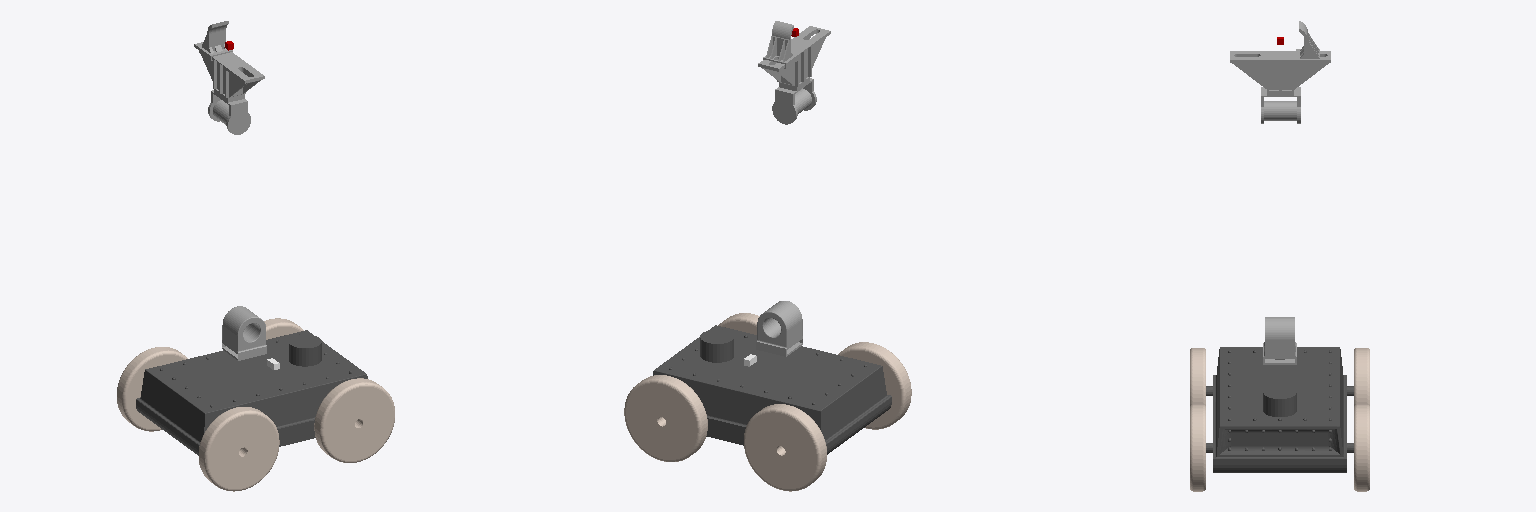
--- Facts derived from the render (not from the file) ---
3 views of the same robot in one strip: view 1: azimuth 30°, elevation 25°; view 2: azimuth 150°, elevation 25°; view 3: azimuth 270°, elevation 25° (orthographic).
Robot: vuasrl_manipulation — 22 links, 21 joints (4 revolute, 4 continuous, 2 prismatic, 11 fixed); root link base_footprint; default pose: all joints at 0.
Links seen in each view (by area): view 1: base_link, rf_wheel, rb_wheel, link5, lb_wheel, link2, gripper, lf_wheel; view 2: base_link, lf_wheel, lb_wheel, link5, rb_wheel, link2, gripper, rf_wheel; view 3: base_link, link5, link2, rf_wheel, lf_wheel, rb_wheel, lb_wheel, gripper.
Boxes of the visible links, x1,y1,x2,y2 form: base_link: [136, 330, 367, 455]; rf_wheel: [314, 378, 394, 462]; rb_wheel: [199, 407, 279, 491]; link5: [194, 42, 264, 134]; lb_wheel: [117, 347, 187, 431]; link2: [222, 306, 266, 360]; gripper: [199, 21, 232, 60]; lf_wheel: [264, 318, 303, 339]; base_link: [653, 325, 891, 454]; lf_wheel: [624, 375, 707, 461]; lb_wheel: [744, 404, 826, 491]; link5: [758, 26, 830, 124]; rb_wheel: [838, 342, 911, 429]; link2: [756, 301, 802, 356]; gripper: [763, 21, 797, 68]; rf_wheel: [718, 313, 759, 334]; base_link: [1206, 347, 1353, 472]; link5: [1230, 51, 1330, 123]; link2: [1263, 317, 1296, 364]; rf_wheel: [1190, 404, 1205, 491]; lf_wheel: [1354, 404, 1369, 491]; rb_wheel: [1190, 348, 1205, 405]; lb_wheel: [1354, 348, 1369, 405]; gripper: [1296, 21, 1319, 64].
Bounding box of the posed robot: 0.33 × 0.27 × 0.6947 m (x, y, z).
8 mesh visuals loaded from 14 distinct referenced files (8 binary STL); not drawn: 6 (reference not matched to a file when rendering).

URDF robot description (vuasrl_manipulation):
<?xml version="1.0" ?>
<!-- =================================================================================== -->
<!-- |    This document was autogenerated by xacro from [local-path]/vuasrl_ws/src/vuasrl_manipulation/urdf/vuasrl_manipulation.urdf.xacro | -->
<!-- |    EDITING THIS FILE BY HAND IS NOT RECOMMENDED                                 | -->
<!-- =================================================================================== -->
<robot name="vuasrl_manipulation">
    <!-- Link1 -->
    <RefLink ref="link1" />
    <!-- Link2 -->
    <RefLink ref="link2" />
    <!-- Link3 -->
    <RefLink ref="link3" />
    <!-- Link4 -->
    <RefLink ref="link4" />
    <!-- Link5 -->
    <RefLink ref="link5" />
    <!-- gripper_link -->
    <RefLink ref="gripper" />
    <!-- gripper_link_sub -->
    <RefLink ref="gripper_sub" />
    <!-- end effector link -->
    <gazebo reference="end_effector_link">
        <material>Gazebo/Red</material>
        <plugin name="gazebo_ros_control">
            <robotNamespace>/</robotNamespace>
        </plugin>
    </gazebo>
    <!-- ros_control plugin -->
    <gazebo>
        <plugin filename="libgazebo_ros_control.so" name="gazebo_ros_control">
            <controlPeriod>0.001</controlPeriod>
            <robotNamespace>/vuasrl_manipulation</robotNamespace>
            <robotSimType>gazebo_ros_control/DefaultRobotHWSim</robotSimType>
            <legacyModeNS>true</legacyModeNS>
        </plugin>
    </gazebo>
    <!-- <gazebo> -->
    <!-- loading plugin: mimic joints works in gazebo now -->
    <!--  <plugin name="gazebo_gripper_ros_control" filename="libroboticsgroup_gazebo_mimic_joint_plugin.so">
      <joint>grip_joint</joint>
      <mimicJoint>grip_joint_sub</mimicJoint>
      <multiplier>1.0</multiplier>
      <offset>0.0</offset>
      <hasPID>/gazebo_ros_control/pid_gains/gripper_joint_sub</hasPID>
    </plugin>
  </gazebo> -->
    <transmission name="tran1">
        <type>transmission_interface/SimpleTransmission</type>
        <joint name="joint1">
            <hardwareInterface>hardware_interface/PositionJointInterface</hardwareInterface>
        </joint>
        <actuator name="motor1">
            <hardwareInterface>hardware_interface/PositionJointInterface</hardwareInterface>
            <mechanicalReduction>1</mechanicalReduction>
        </actuator>
    </transmission>
    <transmission name="tran2">
        <type>transmission_interface/SimpleTransmission</type>
        <joint name="joint2">
            <hardwareInterface>hardware_interface/PositionJointInterface</hardwareInterface>
        </joint>
        <actuator name="motor2">
            <hardwareInterface>hardware_interface/PositionJointInterface</hardwareInterface>
            <mechanicalReduction>1</mechanicalReduction>
        </actuator>
    </transmission>
    <transmission name="tran3">
        <type>transmission_interface/SimpleTransmission</type>
        <joint name="joint3">
            <hardwareInterface>hardware_interface/PositionJointInterface</hardwareInterface>
        </joint>
        <actuator name="motor3">
            <hardwareInterface>hardware_interface/PositionJointInterface</hardwareInterface>
            <mechanicalReduction>1</mechanicalReduction>
        </actuator>
    </transmission>
    <transmission name="tran4">
        <type>transmission_interface/SimpleTransmission</type>
        <joint name="joint4">
            <hardwareInterface>hardware_interface/PositionJointInterface</hardwareInterface>
        </joint>
        <actuator name="motor4">
            <hardwareInterface>hardware_interface/PositionJointInterface</hardwareInterface>
            <mechanicalReduction>1</mechanicalReduction>
        </actuator>
    </transmission>
    <transmission name="tran5">
        <type>transmission_interface/SimpleTransmission</type>
        <joint name="grip_joint">
            <hardwareInterface>hardware_interface/EffortJointInterface</hardwareInterface>
        </joint>
        <actuator name="motor5">
            <hardwareInterface>hardware_interface/EffortJointInterface</hardwareInterface>
            <mechanicalReduction>1</mechanicalReduction>
        </actuator>
    </transmission>
    <transmission name="tran6">
        <type>transmission_interface/SimpleTransmission</type>
        <joint name="grip_joint_sub">
            <hardwareInterface>hardware_interface/EffortJointInterface</hardwareInterface>
        </joint>
        <actuator name="motor6">
            <hardwareInterface>hardware_interface/EffortJointInterface</hardwareInterface>
            <mechanicalReduction>1</mechanicalReduction>
        </actuator>
    </transmission>
    <link name="link1">
        <inertial>
            <origin rpy="0 0 0" xyz="0.0001816853136070254 -2.1915878376977466e-17 0.020129887613482035" />
            <mass value="7.9119962e-02" />
            <inertia ixx="0.002145" ixy="-0.0" ixz="-1.3e-05" iyy="0.004951" iyz="-0.0" izz="0.006213" />
        </inertial>
        <visual>
            <origin rpy="0 0 0" xyz="0 0 0" />
            <geometry>
                <mesh filename="package://vuasrl_manipulation/meshes/link1.stl" scale="0.001 0.001 0.001" />
            </geometry>
            <material name="silver" />
        </visual>
        <collision>
            <origin rpy="0 0 0" xyz="0 0 0" />
            <geometry>
                <mesh filename="package://vuasrl_manipulation/meshes/link1.stl" scale="0.001 0.001 0.001" />
            </geometry>
        </collision>
    </link>
    <link name="link2">
        <inertial>
            <origin rpy="0 0 0" xyz="-2.328586629074536e-11 -2.8877387782838815e-10 0.020681716416087625" />
            <mass value="9.8406837e-02" />
            <inertia ixx="0.000355" ixy="0.0" ixz="0.0" iyy="0.00039" iyz="-0.0" izz="0.000302" />
        </inertial>
        <visual>
            <origin rpy="0 0 0" xyz="-0.03 -0.0 -0.048" />
            <geometry>
                <mesh filename="package://vuasrl_manipulation/meshes/link2.stl" scale="0.001 0.001 0.001" />
            </geometry>
            <material name="silver" />
        </visual>
        <collision>
            <origin rpy="0 0 0" xyz="-0.03 -0.0 -0.048" />
            <geometry>
                <mesh filename="package://vuasrl_manipulation/meshes/link2.stl" scale="0.001 0.001 0.001" />
            </geometry>
        </collision>
    </link>
    <link name="link3">
        <inertial>
            <origin rpy="0 0 0" xyz="-0.004542317857195898 0.0005782036806908492 0.09874905854464662" />
            <mass value="1.3850917e-01" />
            <inertia ixx="0.009439" ixy="-1e-06" ixz="0.000653" iyy="0.009407" iyz="1.5e-05" izz="0.0009" />
        </inertial>
        <visual>
            <origin rpy="0 0 0" xyz="-0.03 -0.0 -0.078" />
            <geometry>
                <mesh filename="package://vuasrl_manipulation/meshes/link3.stl" scale="0.001 0.001 0.001" />
            </geometry>
            <material name="silver" />
        </visual>
        <collision>
            <origin rpy="0 0 0" xyz="-0.03 -0.0 -0.078" />
            <geometry>
                <mesh filename="package://vuasrl_manipulation/meshes/link3.stl" scale="0.001 0.001 0.001" />
            </geometry>
        </collision>
    </link>
    <link name="link4">
        <inertial>
            <origin rpy="0 0 0" xyz="4.336808689942018e-18 0.0005787515631340847 0.10231346303330496" />
            <mass value="1.3274562e-01" />
            <inertia ixx="0.010801" ixy="0.0" ixz="0.0" iyy="0.010515" iyz="1.6e-05" izz="0.000691" />
        </inertial>
        <visual>
            <origin rpy="0 0 0" xyz="-0.005 -0.0005 -0.243" />
            <geometry>
                <mesh filename="package://vuasrl_manipulation/meshes/link4.stl" scale="0.001 0.001 0.001" />
            </geometry>
            <material name="silver" />
        </visual>
        <collision>
            <origin rpy="0 0 0" xyz="-0.005 -0.0005 -0.243" />
            <geometry>
                <mesh filename="package://vuasrl_manipulation/meshes/link4.stl" scale="0.001 0.001 0.001" />
            </geometry>
        </collision>
    </link>
    <link name="link5">
        <inertial>
            <origin rpy="0 0 0" xyz="2.8536201179818477e-16 -5.72784007724092e-15 0.04451102048440414" />
            <mass value="1.4327573e-01" />
            <inertia ixx="0.00218" ixy="-0.0" ixz="-0.0" iyy="0.00154" iyz="0.0" izz="0.000828" />
        </inertial>
        <visual>
            <origin rpy="0 0 0" xyz="-0.005 -0.001 -0.433" />
            <geometry>
                <mesh filename="package://vuasrl_manipulation/meshes/link5.stl" scale="0.001 0.001 0.001" />
            </geometry>
            <material name="silver" />
        </visual>
        <collision>
            <origin rpy="0 0 0" xyz="-0.005 -0.001 -0.433" />
            <geometry>
                <mesh filename="package://vuasrl_manipulation/meshes/link5.stl" scale="0.001 0.001 0.001" />
            </geometry>
        </collision>
    </link>
    <link name="gripper">
        <inertial>
            <origin rpy="0 0 0" xyz="0 0 0" />
            <mass value="1.0e-03" />
            <inertia ixx="1.0e-03" ixy="0.0" ixz="0.0" iyy="1.0e-03" iyz="0.0" izz="1.0e-03" />
        </inertial>
        <visual>
            <origin rpy="0 0 0" xyz="-0.01 0.033 -0.95715" />
            <geometry>
                <mesh filename="package://vuasrl_manipulation/meshes/grip.stl" scale="0.001 0.001 0.001" />
            </geometry>
            <material name="silver" />
        </visual>
        <collision>
            <origin rpy="0 0 0" xyz="-0.01 0.033 -0.95715" />
            <geometry>
                <mesh filename="package://vuasrl_manipulation/meshes/grip.stl" scale="0.001 0.001 0.001" />
            </geometry>
        </collision>
    </link>
    <link name="gripper_sub">
        <inertial>
            <origin rpy="0 0 0" xyz="0 0 0" />
            <mass value="1.0e-03" />
            <inertia ixx="1.0e-03" ixy="0.0" ixz="0.0" iyy="1.0e-03" iyz="0.0" izz="1.0e-03" />
        </inertial>
        <visual>
            <origin rpy="0 0 0" xyz="-0.01 -0.037 -0.95715" />
            <geometry>
                <mesh filename="package://vuasrl_manipulation/meshes/grip_sub.stl" scale="0.001 0.001 0.001" />
            </geometry>
            <material name="silver" />
        </visual>
        <collision>
            <origin rpy="0 0 0" xyz="-0.01 -0.037 -0.95715" />
            <geometry>
                <mesh filename="package://vuasrl_manipulation/meshes/grip_sub.stl" scale="0.001 0.001 0.001" />
            </geometry>
        </collision>
    </link>
    <joint name="joint1" type="revolute">
        <origin rpy="0 0 0" xyz="0.03 0.0 0.048" />
        <parent link="link1" />
        <child link="link2" />
        <axis xyz="0.0 0.0 1.0" />
        <limit effort="1" lower="-2.827433388230814" upper="2.827433388230814" velocity="4.8" />
    </joint>
    <joint name="joint2" type="revolute">
        <origin rpy="0 0 0" xyz="0.0 0.0 0.03" />
        <parent link="link2" />
        <child link="link3" />
        <axis xyz="0.0 1.0 0.0" />
        <limit effort="1" lower="-1.790707812546182" upper="1.5707963267948966" velocity="4.8" />
    </joint>
    <joint name="joint3" type="revolute">
        <origin rpy="0 0 0" xyz="-0.025 0.0005 0.165" />
        <parent link="link3" />
        <child link="link4" />
        <axis xyz="0.0 1.0 0.0" />
        <limit effort="1" lower="-0.9424777960769379" upper="1.382300767579509" velocity="4.8" />
    </joint>
    <joint name="joint4" type="revolute">
        <origin rpy="0 0 0" xyz="0.0 0.0005 0.19" />
        <parent link="link4" />
        <child link="link5" />
        <axis xyz="0.0 1.0 0.0" />
        <limit effort="1" lower="-1.790707812546182" upper="2.0420352248333655" velocity="4.8" />
    </joint>
    <joint name="grip_joint" type="prismatic">
        <origin rpy="0 0 0" xyz="0.005 -0.034 0.52415" />
        <parent link="link5" />
        <child link="gripper" />
        <axis xyz="0.0 1.0 0.0" />
        <limit effort="1" lower="-0.010" upper="0.019" velocity="4.8" />
    </joint>
    <joint name="grip_joint_sub" type="prismatic">
        <origin rpy="0 0 0" xyz="0.005 0.036 0.52415" />
        <parent link="link5" />
        <child link="gripper_sub" />
        <axis xyz="0.0 -1.0 0.0" />
        <limit effort="1" lower="-0.010" upper="0.019" velocity="4.8" />
        <!--  <mimic joint="grip_joint" multiplier="1"/> -->
    </joint>
    <!-- end effector joint -->
    <joint name="end_effector_joint" type="fixed">
        <origin rpy="0 0 0" xyz="0.0 0.0 0.115" />
        <parent link="link5" />
        <child link="end_effector_link" />
    </joint>
    <!-- end effector link -->
    <link name="end_effector_link">
        <visual>
            <origin rpy="0 0 0" xyz="0 0 0" />
            <geometry>
                <box size="0.01 0.01 0.01" />
            </geometry>
            <material name="red" />
        </visual>
        <collision>
            <origin rpy="0 0 0" xyz="0 0 0" />
            <geometry>
                <box size="0.01 0.01 0.01" />
            </geometry>
        </collision>
        <inertial>
            <origin rpy="0 0 0" xyz="0 0 0" />
            <mass value="1.0e-03" />
            <inertia ixx="1.0e-03" ixy="0.0" ixz="0.0" iyy="1.0e-03" iyz="0.0" izz="1.0e-03" />
        </inertial>
    </link>
    <!-- Init colour -->
    <material name="black">
        <color rgba="0.0 0.0 0.0 1.0" />
    </material>
    <material name="dark">
        <color rgba="0.3 0.3 0.3 1.0" />
    </material>
    <material name="light_black">
        <color rgba="0.4 0.4 0.4 1.0" />
    </material>
    <material name="blue">
        <color rgba="0.0 0.0 0.8 1.0" />
    </material>
    <material name="green">
        <color rgba="0.0 0.8 0.0 1.0" />
    </material>
    <material name="grey">
        <color rgba="0.5 0.5 0.5 1.0" />
    </material>
    <material name="orange">
        <color rgba="1.0 0.4235294117647059 0.0392156862745098 1.0" />
    </material>
    <material name="brown">
        <color rgba="0.8705882352941177 0.8117647058823529 0.7647058823529411 1.0" />
    </material>
    <material name="red">
        <color rgba="0.8 0.0 0.0 1.0" />
    </material>
    <material name="white">
        <color rgba="1.0 1.0 1.0 1.0" />
    </material>
    <material name="silver">
        <color rgba="0.700 0.700 0.700 1.000" />
    </material>
    <transmission name="rb_base_tran">
        <type>transmission_interface/SimpleTransmission</type>
        <joint name="rb_base">
            <hardwareInterface>hardware_interface/EffortJointInterface</hardwareInterface>
        </joint>
        <actuator name="rb_base_actr">
            <hardwareInterface>hardware_interface/EffortJointInterface</hardwareInterface>
            <mechanicalReduction>1</mechanicalReduction>
        </actuator>
    </transmission>
    <transmission name="lb_base_tran">
        <type>transmission_interface/SimpleTransmission</type>
        <joint name="lb_base">
            <hardwareInterface>hardware_interface/EffortJointInterface</hardwareInterface>
        </joint>
        <actuator name="lb_base_actr">
            <hardwareInterface>hardware_interface/EffortJointInterface</hardwareInterface>
            <mechanicalReduction>1</mechanicalReduction>
        </actuator>
    </transmission>
    <transmission name="rf_base_tran">
        <type>transmission_interface/SimpleTransmission</type>
        <joint name="rf_base">
            <hardwareInterface>hardware_interface/EffortJointInterface</hardwareInterface>
        </joint>
        <actuator name="rf_base_actr">
            <hardwareInterface>hardware_interface/EffortJointInterface</hardwareInterface>
            <mechanicalReduction>1</mechanicalReduction>
        </actuator>
    </transmission>
    <transmission name="lf_base_tran">
        <type>transmission_interface/SimpleTransmission</type>
        <joint name="lf_base">
            <hardwareInterface>hardware_interface/EffortJointInterface</hardwareInterface>
        </joint>
        <actuator name="lf_base_actr">
            <hardwareInterface>hardware_interface/EffortJointInterface</hardwareInterface>
            <mechanicalReduction>1</mechanicalReduction>
        </actuator>
    </transmission>
    <material name="Cam_Color">
        <color rgba="0.0 0.0 0.75 1.0" />
    </material>
    <gazebo>
        <plugin filename="libgazebo_ros_control.so" name="control" />
    </gazebo>
    <gazebo reference="base_link">
        <material>Gazebo/Grey</material>
        <mu1>0.2</mu1>
        <mu2>0.2</mu2>
        <selfCollide>true</selfCollide>
        <gravity>true</gravity>
    </gazebo>
    <gazebo reference="rb_wheel">
        <material>Gazebo/DarkGrey</material>
        <mu1>15000</mu1>
        <mu2>15000</mu2>
        <selfCollide>true</selfCollide>
    </gazebo>
    <gazebo reference="lb_wheel">
        <material>Gazebo/DarkGrey</material>
        <mu1>15000</mu1>
        <mu2>15000</mu2>
        <selfCollide>true</selfCollide>
    </gazebo>
    <gazebo reference="rf_wheel">
        <material>Gazebo/DarkGrey</material>
        <mu1>0.2</mu1>
        <mu2>0.2</mu2>
        <selfCollide>true</selfCollide>
    </gazebo>
    <gazebo reference="lf_wheel">
        <material>Gazebo/DarkGrey</material>
        <mu1>0.2</mu1>
        <mu2>0.2</mu2>
        <selfCollide>true</selfCollide>
    </gazebo>
    <gazebo>
        <plugin filename="libgazebo_ros_diff_drive.so" name="differential_drive_controller">
            <alwaysOn>true</alwaysOn>
            <updateRate>10</updateRate>
            <legacyMode>false</legacyMode>
            <leftJoint>lb_base</leftJoint>
            <rightJoint>rb_base</rightJoint>
            <wheelSeparation>0.12</wheelSeparation>
            <wheelDiameter>0.130</wheelDiameter>
            <commandTopic>cmd_vel</commandTopic>
            <odometryTopic>vuasrl/odom</odometryTopic>
            <odometryFrame>vuasrl/odom</odometryFrame>
            <robotBaseFrame>base_link</robotBaseFrame>
            <publishTf>1</publishTf>
            <publishOdom>true</publishOdom>
            <publishWheelTF>false</publishWheelTF>
            <publishWheelJointState>false</publishWheelJointState>
            <rosDebugLevel>na</rosDebugLevel>
            <wheelAcceleration>1.0</wheelAcceleration>
            <wheelTorque>20</wheelTorque>
            <odometrySource>world</odometrySource>
        </plugin>
    </gazebo>
    <!-- imu -->
    <gazebo reference="imu_link">
        <gravity>false</gravity>
        <sensor name="imu_sensor" type="imu">
            <always_on>true</always_on>
            <update_rate>100</update_rate>
            <visualize>true</visualize>
            <topic>__default_topic__</topic>
            <plugin filename="libgazebo_ros_imu_sensor.so" name="imu_plugin">
                <topicName>imu</topicName>
                <bodyName>imu_link</bodyName>
                <updateRateHZ>10.0</updateRateHZ>
                <gaussianNoise>0.0</gaussianNoise>
                <xyzOffset>0 0 0</xyzOffset>
                <rpyOffset>0 0 0</rpyOffset>
                <frameName>imu_link</frameName>
                <initialOrientationAsReference>false</initialOrientationAsReference>
            </plugin>
            <pose>0 0 0 0 0 0</pose>
        </sensor>
    </gazebo>
    <!-- ouster -->
    <gazebo reference="ouster_link">
        <sensor name="ouster_sensor" type="ray">
            <visualize>0</visualize>
            <update_rate>10</update_rate>
            <ray>
                <scan>
                    <horizontal>
                        <samples>512</samples>
                        <resolution>1</resolution>
                        <min_angle>-3.14159</min_angle>
                        <max_angle>3.14159</max_angle>
                    </horizontal>
                    <vertical>
                        <samples>32</samples>
                        <resolution>1</resolution>
                        <min_angle>-0.349</min_angle>
                        <max_angle>0.349</max_angle>
                    </vertical>
                </scan>
                <range>
                    <min>0.05</min>
                    <max>120.0</max>
                    <resolution>0.01</resolution>
                </range>
                <noise>
                    <type>gaussian</type>
                    <mean>0</mean>
                    <stddev>0.01</stddev>
                </noise>
            </ray>
            <plugin filename="libgazebo_ros_ouster_laser.so" name="gazebo_ros_laser_controller">
                <topicName>/os_cloud_node/points</topicName>
                <bodyName>ouster_link</bodyName>
                <frameName>ouster_link</frameName>
                <min_range>0.05</min_range>
                <max_range>120.0</max_range>
                <gaussianNoise>0.01</gaussianNoise>
            </plugin>
        </sensor>
    </gazebo>
    <!-- frames in the center of the camera -->
    <joint name="mani_camera_joint" type="fixed">
        <origin rpy="0.0 6.283185307179586 0.0" xyz="0.1345 -0.0015 0.1" />
        <parent link="base_link" />
        <child link="mani_camera_link" />
    </joint>
    <link name="mani_camera_link">
        <inertial>
            <origin rpy="0 0 0" xyz="-0.00936000000 -0.00003000000 -0.00273000000" />
            <mass value="0.21970000000" />
            <inertia ixx="0.00000429247" ixy="0.00000000000" ixz="0.00000002565" iyy="0.00000008027" iyz="0.00000000000" izz="0.00000427339" />
        </inertial>
        <visual>
            <geometry>
                <!--
          <box size="0.06 0.1 0.03" />
        	-->
                <mesh filename="package://tugcar_description/meshes/sensors/xtion_pro_live/xtion_pro_live.stl" />
            </geometry>
            <material name="Cam_Color" />
        </visual>
        <collision>
            <geometry>
                <mesh filename="package://tugcar_description/meshes/sensors/xtion_pro_live/xtion_pro_live.dae" />
            </geometry>
        </collision>
    </link>
    <joint name="mani_camera_optical_joint" type="fixed">
        <origin rpy="-1.5707963267948966 0.0 -1.5707963267948966" xyz="0 0 0" />
        <parent link="mani_camera_link" />
        <child link="mani_camera_optical_frame" />
    </joint>
    <link name="mani_camera_optical_frame">
        <dummy_inertial />
    </link>
    <!-- Depth sensor frames -->
    <joint name="mani_camera_depth_joint" type="fixed">
        <origin rpy="0 0 0" xyz="0.0 0.049 0.0" />
        <parent link="mani_camera_link" />
        <child link="mani_camera_depth_frame" />
    </joint>
    <link name="mani_camera_depth_frame">
        <dummy_inertial />
    </link>
    <joint name="mani_camera_depth_optical_joint" type="fixed">
        <origin rpy="-1.5707963267948966 0.0 -1.5707963267948966" xyz="0 0 0" />
        <parent link="mani_camera_depth_frame" />
        <child link="mani_camera_depth_optical_frame" />
    </joint>
    <link name="mani_camera_depth_optical_frame">
        <dummy_inertial />
    </link>
    <!-- RGB sensor frames -->
    <joint name="mani_camera_rgb_joint" type="fixed">
        <origin rpy="0 0 0" xyz="0.0 0.022 0.0" />
        <parent link="mani_camera_link" />
        <child link="mani_camera_rgb_frame" />
    </joint>
    <link name="mani_camera_rgb_frame">
        <dummy_inertial />
    </link>
    <joint name="mani_camera_rgb_optical_joint" type="fixed">
        <origin rpy="-1.5707963267948966 0.0 -1.5707963267948966" xyz="0 0 0" />
        <parent link="mani_camera_rgb_frame" />
        <child link="mani_camera_rgb_optical_frame" />
    </joint>
    <link name="mani_camera_rgb_optical_frame">
        <dummy_inertial />
    </link>
    <gazebo reference="mani_camera_link">
        <!-- Depth (IR) -->
        <sensor name="mani_camera_frame_sensor" type="depth">
            <always_on>true</always_on>
            <update_rate>6.0</update_rate>
            <camera>
                <horizontal_fov>1.0122909661567112</horizontal_fov>
                <image>
                    <format>R8G8B8</format>
                    <width>800</width>
                    <height>600</height>
                </image>
                <clip>
                    <near>0.05</near>
                    <far>1.5</far>
                </clip>
            </camera>
            <plugin filename="libgazebo_ros_openni_kinect.so" name="mani_camera_depth_controller">
                <alwaysOn>true</alwaysOn>
                <updateRate>6.0</updateRate>
                <cameraName>mani_camera</cameraName>
                <imageTopicName>ir/image_raw</imageTopicName>
                <cameraInfoTopicName>ir/camera_info</cameraInfoTopicName>
                <depthImageTopicName>depth/image_raw</depthImageTopicName>
                <depthImageCameraInfoTopicName>depth/camera_info</depthImageCameraInfoTopicName>
                <pointCloudTopicName>depth/points</pointCloudTopicName>
                <frameName>mani_camera_optical_frame</frameName>
                <pointCloudCutoff>0.05</pointCloudCutoff>
                <pointCloudCutoffMax>5</pointCloudCutoffMax>
                <rangeMax>1.5</rangeMax>
                <!-- Distortion parameters not supported in gazebo 1.9.* plugins -->
                <!--distortionK1>0.00000001</distortionK1>
          <distortionK2>0.00000001</distortionK2>
          <distortionK3>0.00000001</distortionK3>
          <distortionT1>0.00000001</distortionT1>
          <distortionT2>0.00000001</distortionT2-->
            </plugin>
        </sensor>
        <!-- RGB -->
        <sensor name="mani_camera_frame_sensor" type="rgb">
            <always_on>true</always_on>
            <update_rate>6.0</update_rate>
            <camera>
                <horizontal_fov>1.0122909661567112</horizontal_fov>
                <image>
                    <format>R8G8B8</format>
                    <width>800</width>
                    <height>600</height>
                </image>
                <clip>
                    <near>0.05</near>
                    <far>1.5</far>
                </clip>
            </camera>
            <plugin filename="libgazebo_ros_openni_kinect.so" name="mani_camera_rgb_controller">
                <alwaysOn>true</alwaysOn>
                <updateRate>6.0</updateRate>
                <cameraName>mani_camera</cameraName>
                <imageTopicName>rgb/image_raw</imageTopicName>
                <cameraInfoTopicName>rgb/camera_info</cameraInfoTopicName>
                <pointCloudTopicName>rgb/points</pointCloudTopicName>
                <depthImageTopicName>depth/image_raw</depthImageTopicName>
                <depthImageCameraInfoTopicName>depth/camera_info</depthImageCameraInfoTopicName>
                <frameName>mani_camera_optical_frame</frameName>
                <pointCloudCutoff>0.05</pointCloudCutoff>
                <pointCloudCutoffMax>5</pointCloudCutoffMax>
                <rangeMax>1.5</rangeMax>
            </plugin>
        </sensor>
    </gazebo>
    <link name="base_footprint" />
    <link name="base_link">
        <inertial>
            <origin rpy="0 0 0" xyz="-0.0024815786222996896 8.508916291582655e-12 0.0794086767825376" />
            <mass value="4.692054269661653" />
            <inertia ixx="0.016864" ixy="0.0" ixz="-0.000207" iyy="0.034781" iyz="0.0" izz="0.046341" />
        </inertial>
        <visual>
            <origin rpy="0 0 0" xyz="0 0 0" />
            <geometry>
                <mesh filename="package://vuasrl_car_description/meshes/base_link.stl" scale="0.001 0.001 0.001" />
            </geometry>
            <material name="light_black" />
        </visual>
        <collision>
            <origin rpy="0 0 0" xyz="0 0 0" />
            <geometry>
                <mesh filename="package://vuasrl_car_description/meshes/base_link.stl" scale="0.001 0.001 0.001" />
            </geometry>
        </collision>
    </link>
    <link name="rb_wheel">
        <inertial>
            <origin rpy="0 0 0" xyz="-1.0699774399824946e-14 -0.012500000000000011 0.0" />
            <mass value="0.30048849691250473" />
            <inertia ixx="0.000333" ixy="0.0" ixz="0.0" iyy="0.000635" iyz="0.0" izz="0.000333" />
        </inertial>
        <visual>
            <origin rpy="0 0 0" xyz="0.1 0.11 -0.065" />
            <geometry>
                <mesh filename="package://vuasrl_car_description/meshes/rb_wheel_1.stl" scale="0.001 0.001 0.001" />
            </geometry>
            <material name="brown" />
        </visual>
        <collision>
            <origin rpy="0 0 0" xyz="0.1 0.11 -0.065" />
            <geometry>
                <mesh filename="package://vuasrl_car_description/meshes/rb_wheel_1.stl" scale="0.001 0.001 0.001" />
            </geometry>
        </collision>
    </link>
    <link name="lb_wheel">
        <inertial>
            <origin rpy="0 0 0" xyz="-1.0685896612017132e-14 0.012500000000000011 -1.3877787807814457e-17" />
            <mass value="0.30048849691250473" />
            <inertia ixx="0.000333" ixy="0.0" ixz="0.0" iyy="0.000635" iyz="0.0" izz="0.000333" />
        </inertial>
        <visual>
            <origin rpy="0 0 0" xyz="0.1 -0.11 -0.065" />
            <geometry>
                <mesh filename="package://vuasrl_car_description/meshes/lb_wheel_1.stl" scale="0.001 0.001 0.001" />
            </geometry>
            <material name="brown" />
        </visual>
        <collision>
            <origin rpy="0 0 0" xyz="0.1 -0.11 -0.065" />
            <geometry>
                <mesh filename="package://vuasrl_car_description/meshes/lb_wheel_1.stl" scale="0.001 0.001 0.001" />
            </geometry>
        </collision>
    </link>
    <link name="rf_wheel">
        <inertial>
            <origin rpy="0 0 0" xyz="1.0685896612017132e-14 -0.012499999999999997 1.3877787807814457e-17" />
            <mass value="0.3004884969125047" />
            <inertia ixx="0.000333" ixy="0.0" ixz="0.0" iyy="0.000635" iyz="-0.0" izz="0.000333" />
        </inertial>
        <visual>
            <origin rpy="0 0 0" xyz="-0.1 0.11 -0.065" />
            <geometry>
                <mesh filename="package://vuasrl_car_description/meshes/rf_wheel_1.stl" scale="0.001 0.001 0.001" />
            </geometry>
            <material name="brown" />
        </visual>
        <collision>
            <origin rpy="0 0 0" xyz="-0.1 0.11 -0.065" />
            <geometry>
                <mesh filename="package://vuasrl_car_description/meshes/rf_wheel_1.stl" scale="0.001 0.001 0.001" />
            </geometry>
        </collision>
    </link>
    <link name="lf_wheel">
        <inertial>
            <origin rpy="0 0 0" xyz="1.0685896612017132e-14 0.012499999999999997 0.0" />
            <mass value="0.3004884969125047" />
            <inertia ixx="0.000333" ixy="0.0" ixz="0.0" iyy="0.000635" iyz="0.0" izz="0.000333" />
        </inertial>
        <visual>
            <origin rpy="0 0 0" xyz="-0.1 -0.11 -0.065" />
            <geometry>
                <mesh filename="package://vuasrl_car_description/meshes/lf_wheel_1.stl" scale="0.001 0.001 0.001" />
            </geometry>
            <material name="brown" />
        </visual>
        <collision>
            <origin rpy="0 0 0" xyz="-0.1 -0.11 -0.065" />
            <geometry>
                <mesh filename="package://vuasrl_car_description/meshes/lf_wheel_1.stl" scale="0.001 0.001 0.001" />
            </geometry>
        </collision>
    </link>
    <link name="ouster_link">
        <inertial>
            <origin rpy="0 0 0" xyz="-1.3877787807814457e-17 0.0 0.007571641576545857" />
            <mass value="0.22880119812327096" />
            <inertia ixx="4e-05" ixy="0.0" ixz="-0.0" iyy="4e-05" iyz="-0.0" izz="7.1e-05" />
        </inertial>
        <visual>
            <origin rpy="0 0 0" xyz="0.085 0.0 -0.15" />
            <geometry>
                <mesh filename="package://vuasrl_car_description/models/sensors/ouster_ros/meshes/os1_64.dae" scale="0.8 0.8 0.7" />
            </geometry>
            <material name="silver" />
        </visual>
        <collision>
            <origin rpy="0 0 0" xyz="0.085 0.0 -0.10" />
            <geometry>
                <mesh filename="package://vuasrl_car_description/models/sensors/ouster_ros/meshes/os1_64.dae" scale="0.8 0.8 0.7" />
            </geometry>
        </collision>
    </link>
    <link name="imu_link">
        <inertial>
            <origin rpy="0 0 0" xyz="0 0 0" />
            <mass value="0.1" />
            <inertia ixx="4e-05" ixy="0.0" ixz="-0.0" iyy="4e-05" iyz="-0.0" izz="7.1e-05" />
        </inertial>
        <visual>
            <origin rpy="0 0 0" xyz="0 0 0" />
            <geometry>
                <box size="0.01 0.02 0.01" />
            </geometry>
            <material name="white" />
        </visual>
        <collision>
            <geometry>
                <box size="0.01 0.02 0.01" />
            </geometry>
        </collision>
    </link>
    <joint name="base_joint" type="fixed">
        <parent link="base_footprint" />
        <child link="base_link" />
        <origin rpy="0 0 0" xyz="0 0 0.010" />
    </joint>
    <joint name="rb_base" type="continuous">
        <origin rpy="0 0 0" xyz="-0.1 -0.11 0.065" />
        <parent link="base_link" />
        <child link="rb_wheel" />
        <axis xyz="0.0 1.0 0.0" />
    </joint>
    <joint name="lb_base" type="continuous">
        <origin rpy="0 0 0" xyz="-0.1 0.11 0.065" />
        <parent link="base_link" />
        <child link="lb_wheel" />
        <axis xyz="0.0 1.0 0.0" />
    </joint>
    <joint name="rf_base" type="continuous">
        <origin rpy="0 0 0" xyz="0.1 -0.11 0.065" />
        <parent link="base_link" />
        <child link="rf_wheel" />
        <axis xyz="0.0 1.0 0.0" />
    </joint>
    <joint name="lf_base" type="continuous">
        <origin rpy="0 0 0" xyz="0.1 0.11 0.065" />
        <parent link="base_link" />
        <child link="lf_wheel" />
        <axis xyz="0.0 1.0 0.0" />
    </joint>
    <joint name="lidar_base" type="fixed">
        <origin rpy="0 0 0" xyz="0.0 0.0 0.30" />
        <parent link="base_link" />
        <child link="ouster_link" />
    </joint>
    <joint name="imu_joint" type="fixed">
        <parent link="base_link" />
        <child link="imu_link" />
        <origin rpy="0 0 0" xyz="0.03 0 0.125" />
    </joint>
    <!-- base_fixed joint-->
    <joint name="base_fixed" type="fixed">
        <origin rpy="0 0 0" xyz="-0.05 0.0 0.12" />
        <parent link="base_link" />
        <child link="link1" />
    </joint>
</robot>
